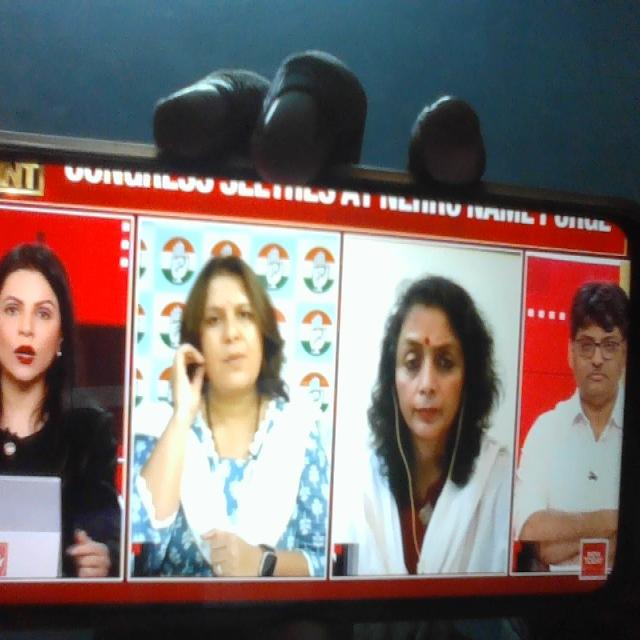fake: (370, 255, 486, 473)
